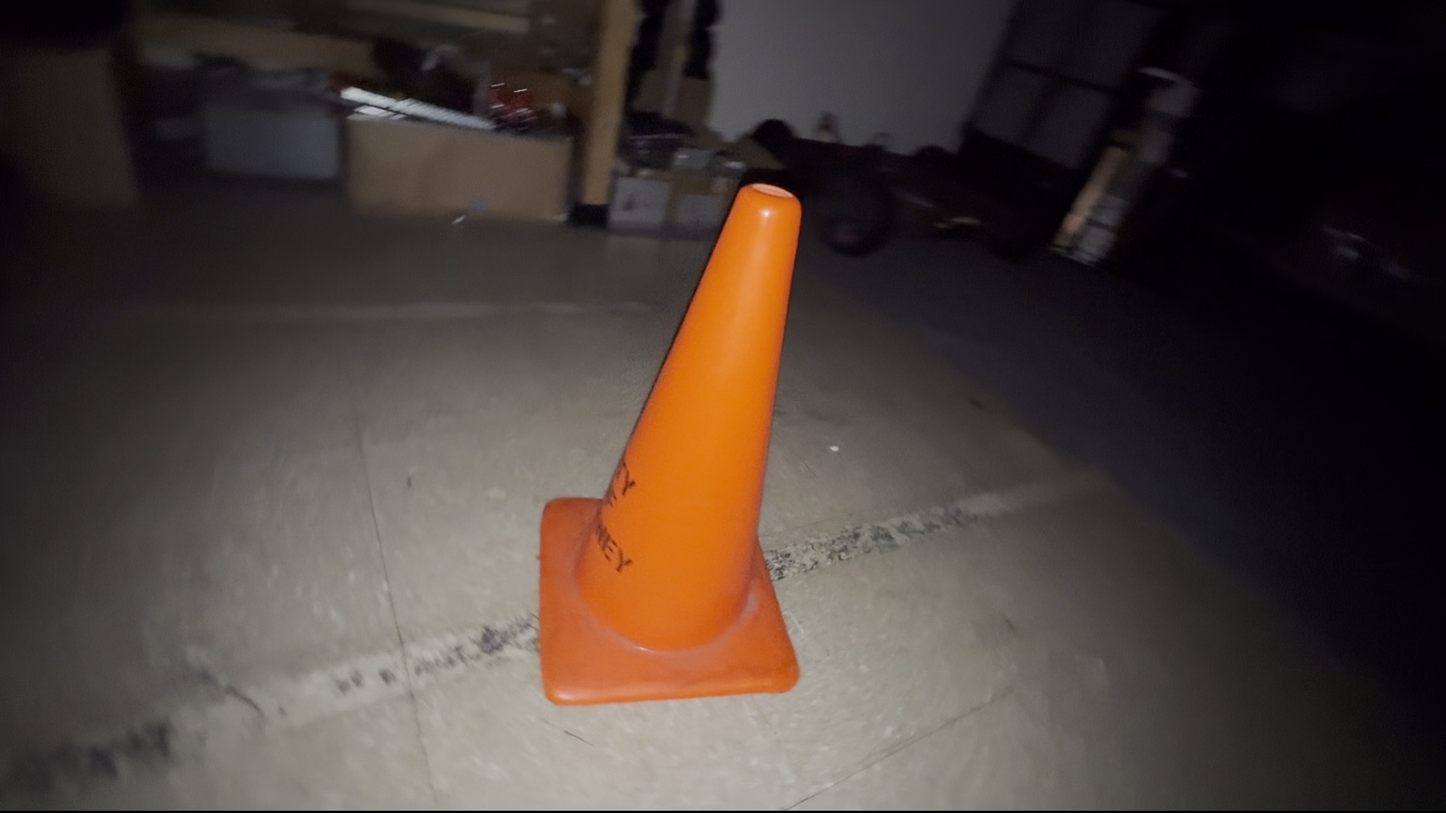traffic_cone: (537, 181, 804, 707)
